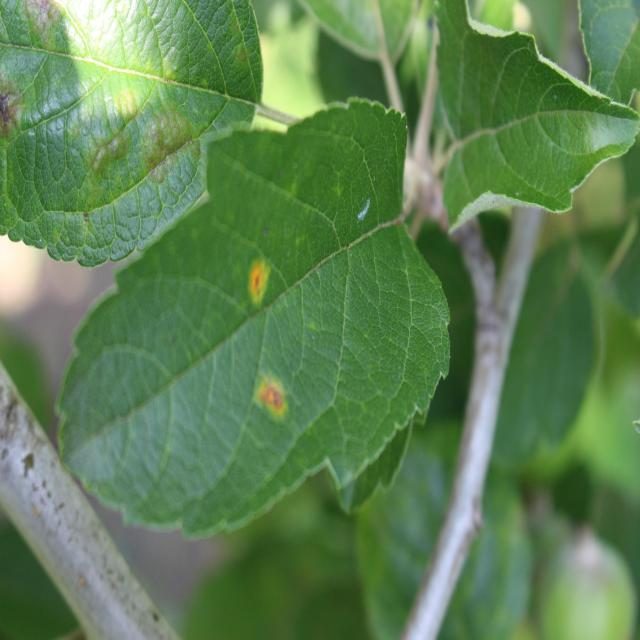Rust: (234, 238, 278, 320), (250, 372, 306, 432)
